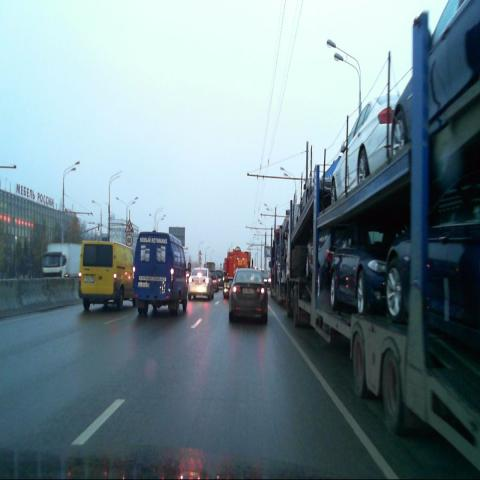1_25: (124, 218, 134, 232)
3_24: (126, 234, 132, 247)
